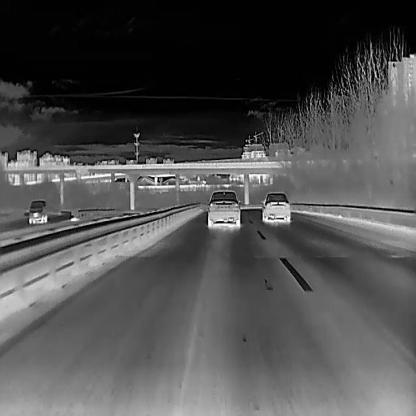car: (207, 190, 241, 227), (261, 192, 290, 221)
truck: (27, 199, 71, 223)
